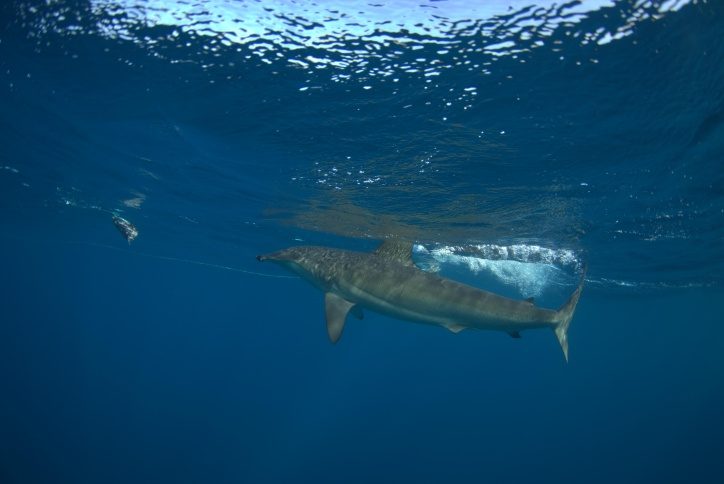Hammer: (212, 185, 630, 406)
